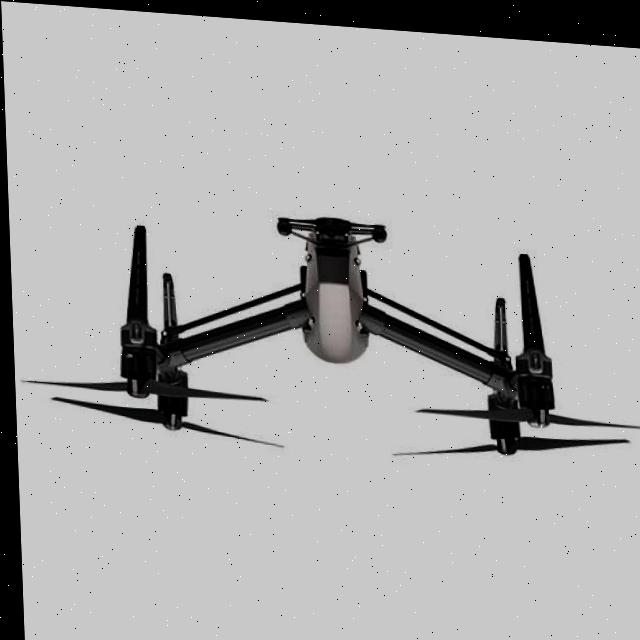drone: (18, 198, 637, 479)
